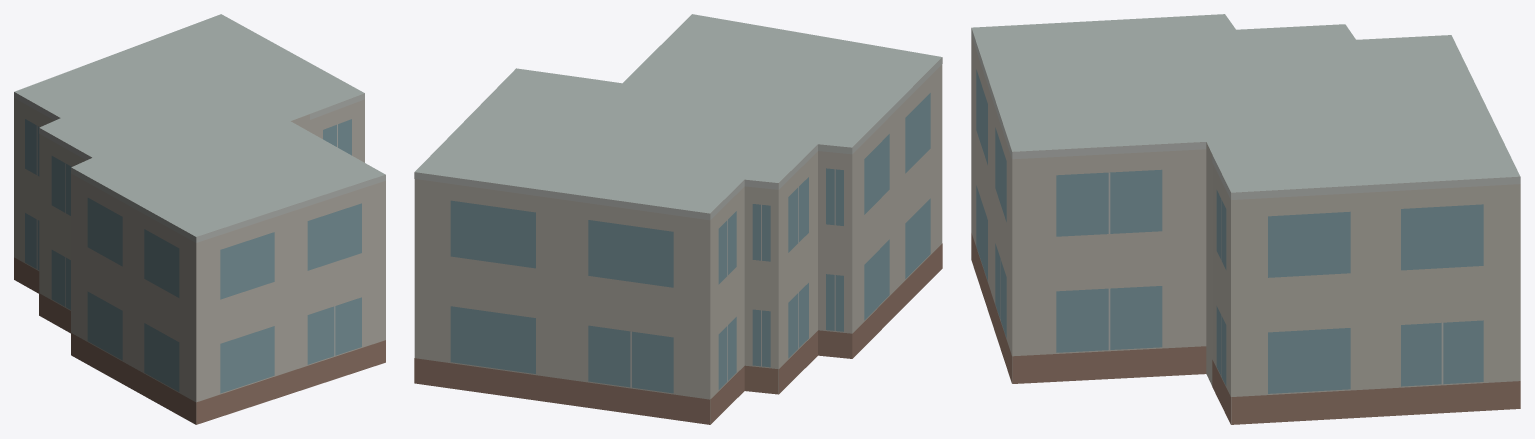
Rendered from survey-upis-32981135.glb.
The picture shows the model from 3 angles, left to right: view 1: azimuth 30°, elevation 25°; view 2: azimuth 150°, elevation 25°; view 3: azimuth 270°, elevation 25°; orthographic projection. The views are drawn at different scales.
Parts seen in each view (by area): view 1: survey-upis-32981135.tmp; view 2: survey-upis-32981135.tmp; view 3: survey-upis-32981135.tmp.
Boxes of the visible parts, <box> form: survey-upis-32981135.tmp: <box>14,14,385,424</box>; survey-upis-32981135.tmp: <box>414,14,942,424</box>; survey-upis-32981135.tmp: <box>971,14,1520,424</box>.
Bounding box in the file's own units: 12.56 × 7.6 × 16.3.
